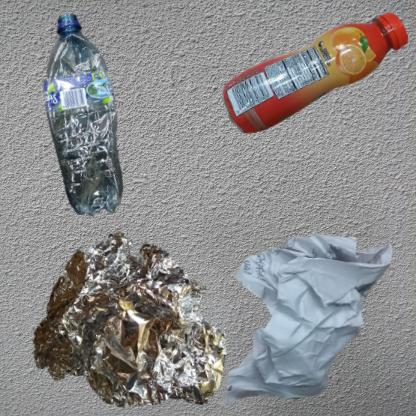aluminio: (10, 213, 246, 416)
botella: (10, 10, 183, 252), (213, 10, 416, 147)
papel: (213, 213, 402, 416)
